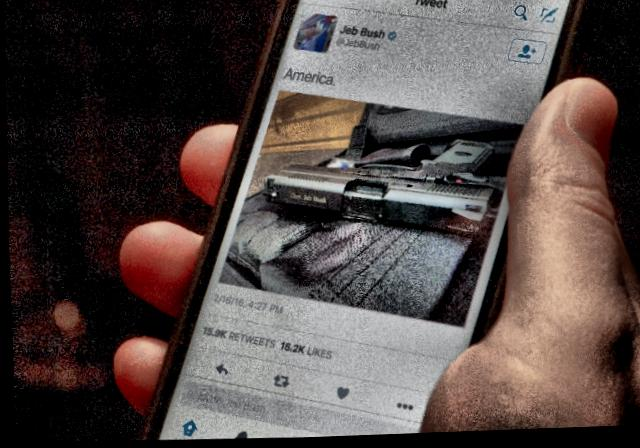pistol: (254, 136, 501, 247)
